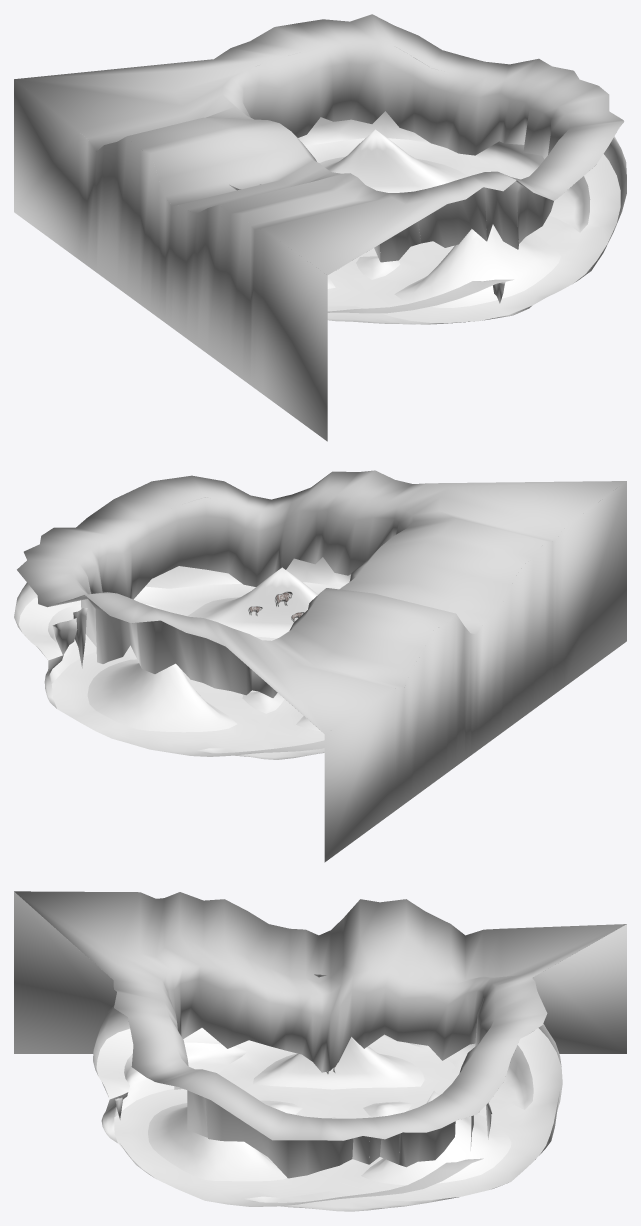
File: cave_track.glb
3 views of the same model, one above another, from view 1: azimuth 30°, elevation 25°; view 2: azimuth 150°, elevation 25°; view 3: azimuth 270°, elevation 25° (orthographic). The views are drawn at different scales.
Visible parts, largest first — view 1: stktex_jungleLiana_a.png__, stk_karstRock_a.png__, stktex_generic_earth_a.png__; view 2: stktex_jungleLiana_a.png__, stk_karstRock_a.png__, stktex_generic_earth_a.png__; view 3: stktex_jungleLiana_a.png__, stktex_generic_earth_a.png__, stk_karstRock_a.png__.
Part boxes in pixels (x1,y1,x2,y2): stktex_jungleLiana_a.png__: [14, 14, 624, 441]; stk_karstRock_a.png__: [229, 47, 626, 324]; stktex_generic_earth_a.png__: [304, 138, 620, 322]; stktex_jungleLiana_a.png__: [17, 470, 626, 862]; stk_karstRock_a.png__: [14, 497, 350, 759]; stktex_generic_earth_a.png__: [19, 582, 340, 756]; stktex_jungleLiana_a.png__: [14, 891, 626, 1178]; stktex_generic_earth_a.png__: [96, 1028, 562, 1206]; stk_karstRock_a.png__: [93, 974, 561, 1211].
Size of the model in its own units: 143 by 51.31 by 175.
4 materials, 1 textured.
